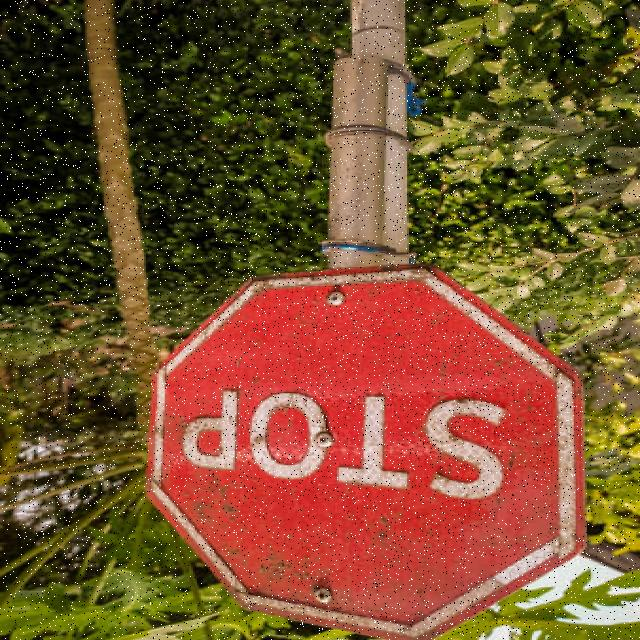stop: (121, 254, 600, 640)
